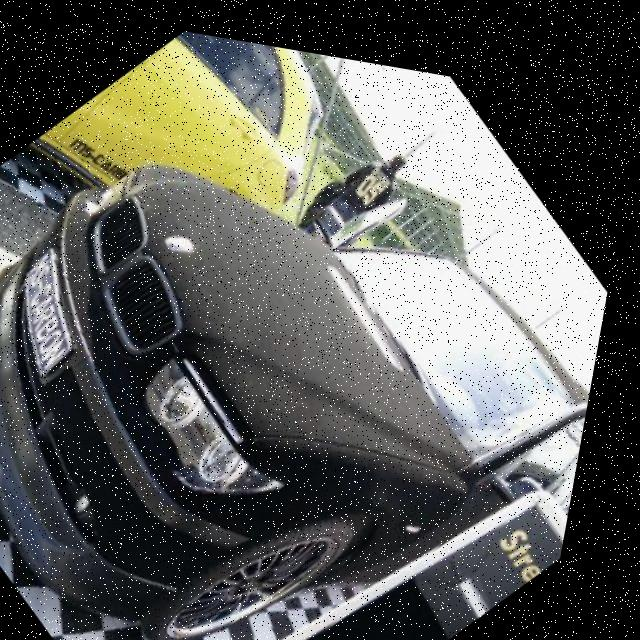license_plate: (0, 236, 131, 382)
